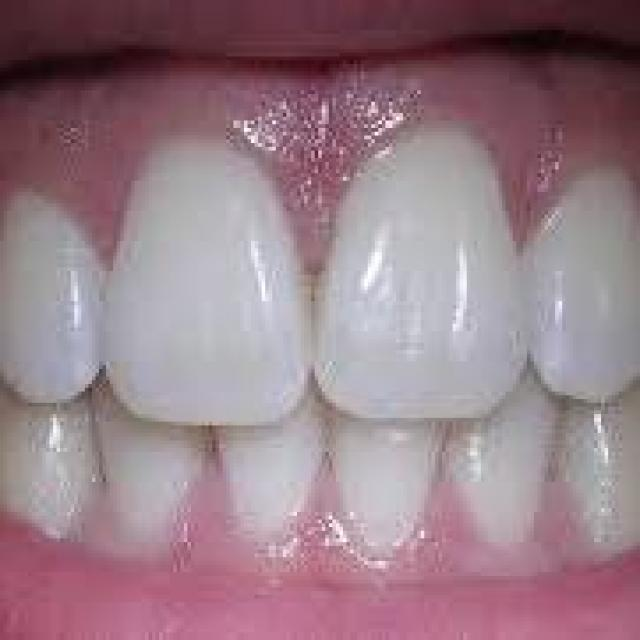tooth: (308, 124, 520, 418), (117, 136, 290, 407), (7, 188, 96, 388), (548, 180, 619, 392), (322, 422, 424, 554), (99, 399, 194, 538), (4, 399, 96, 523), (565, 395, 640, 545), (230, 422, 318, 530), (474, 426, 527, 538)
